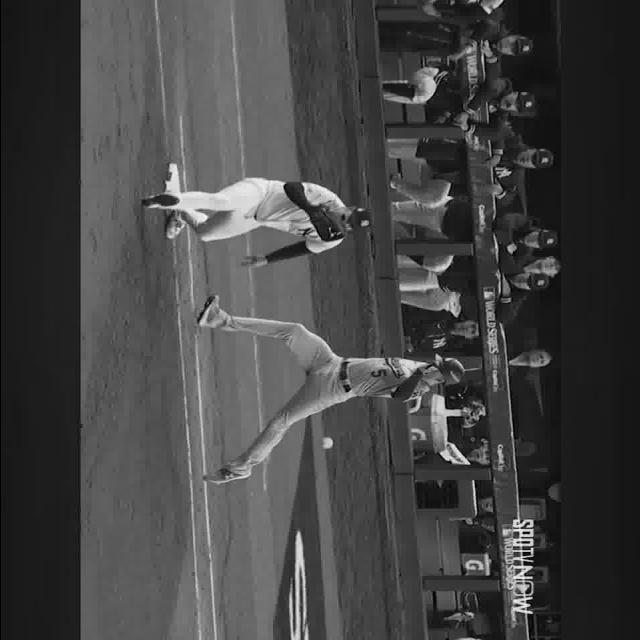base: (167, 164, 180, 194)
baseball: (320, 438, 332, 448)
baseball_glove: (308, 208, 347, 242)
shoe: (202, 466, 250, 485), (197, 295, 222, 328), (143, 194, 182, 212), (167, 212, 186, 240)
